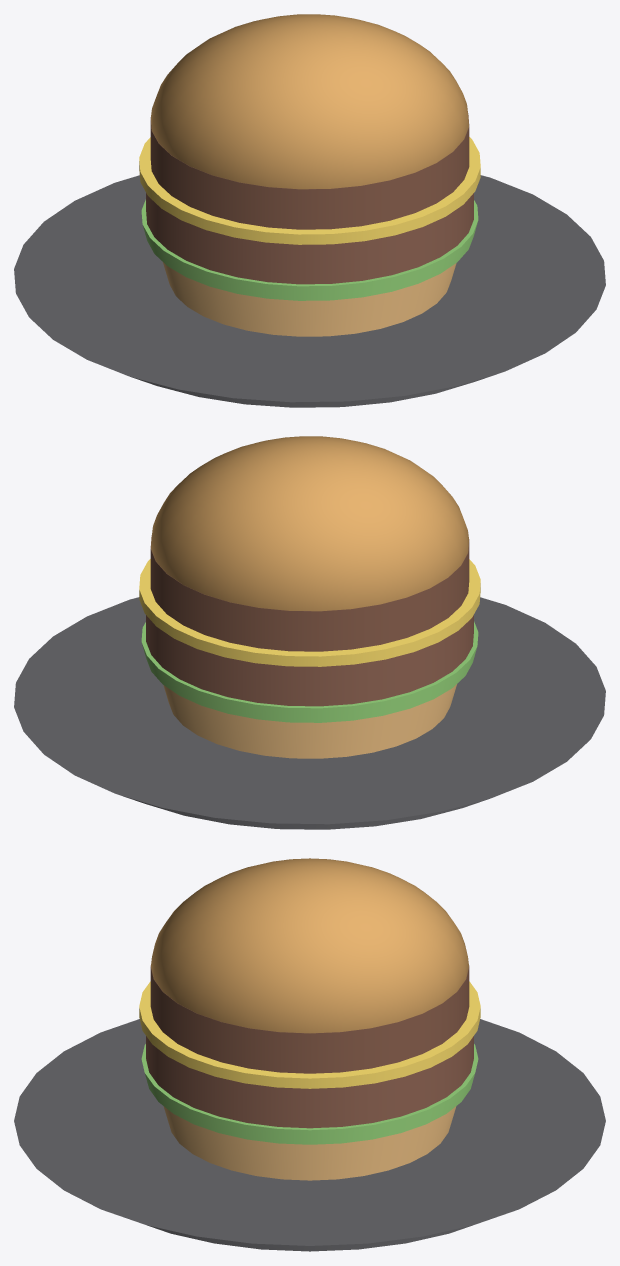
File: burger.glb
The picture shows the model from 3 angles, top to bottom: view 1: azimuth 30°, elevation 25°; view 2: azimuth 150°, elevation 25°; view 3: azimuth 270°, elevation 25°; orthographic projection.
Parts seen in each view (by area): view 1: DishRoot; view 2: DishRoot; view 3: DishRoot.
Part boxes in pixels (x1,y1,x2,y2): DishRoot: (14, 14, 605, 407); DishRoot: (14, 436, 605, 829); DishRoot: (14, 858, 605, 1251).
Size of the model in its own units: 0.26 by 0.128 by 0.26.
